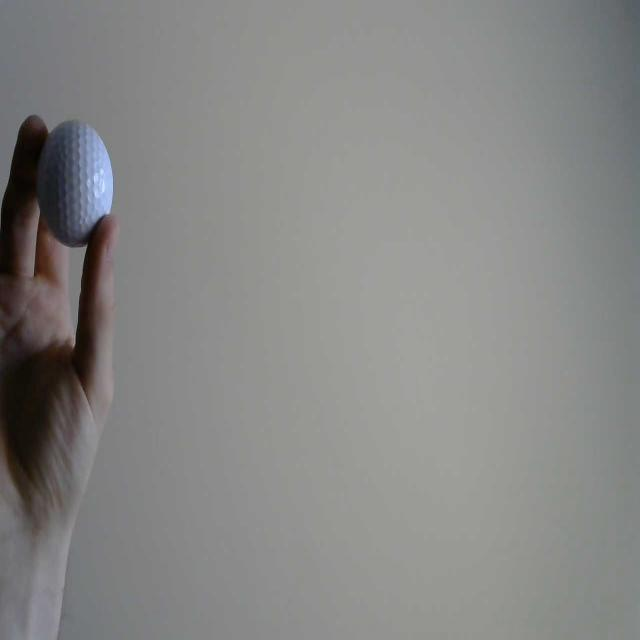golfball: (36, 120, 114, 249)
